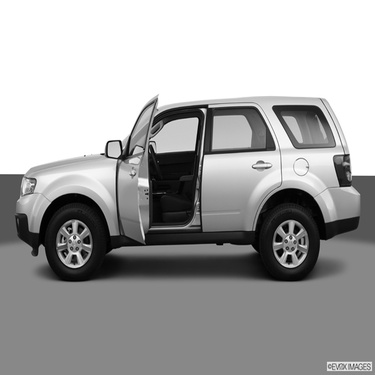car: (12, 87, 365, 284)
